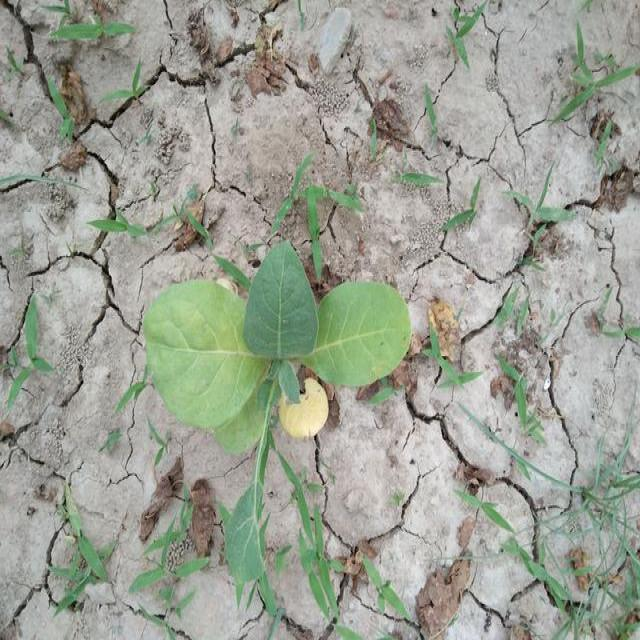crop: (138, 230, 428, 440)
